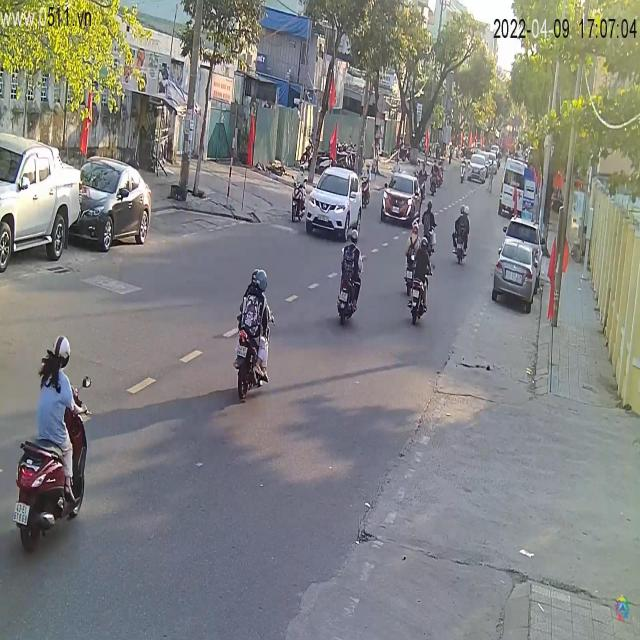car: (1, 132, 83, 276), (72, 158, 155, 254), (300, 166, 364, 240), (493, 233, 547, 313), (381, 167, 423, 224)
motorcycle: (14, 431, 85, 553), (234, 289, 274, 405), (338, 243, 363, 320), (408, 254, 431, 325), (451, 209, 472, 266)
